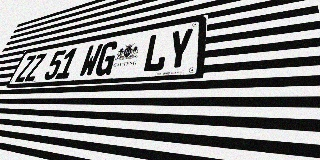1: (55, 47, 80, 79)
5: (43, 50, 67, 80)
G: (93, 40, 120, 76)
L: (141, 32, 170, 73)
W: (78, 43, 104, 77)
Y: (164, 27, 194, 71)
Z: (24, 53, 47, 82), (14, 55, 37, 82)
